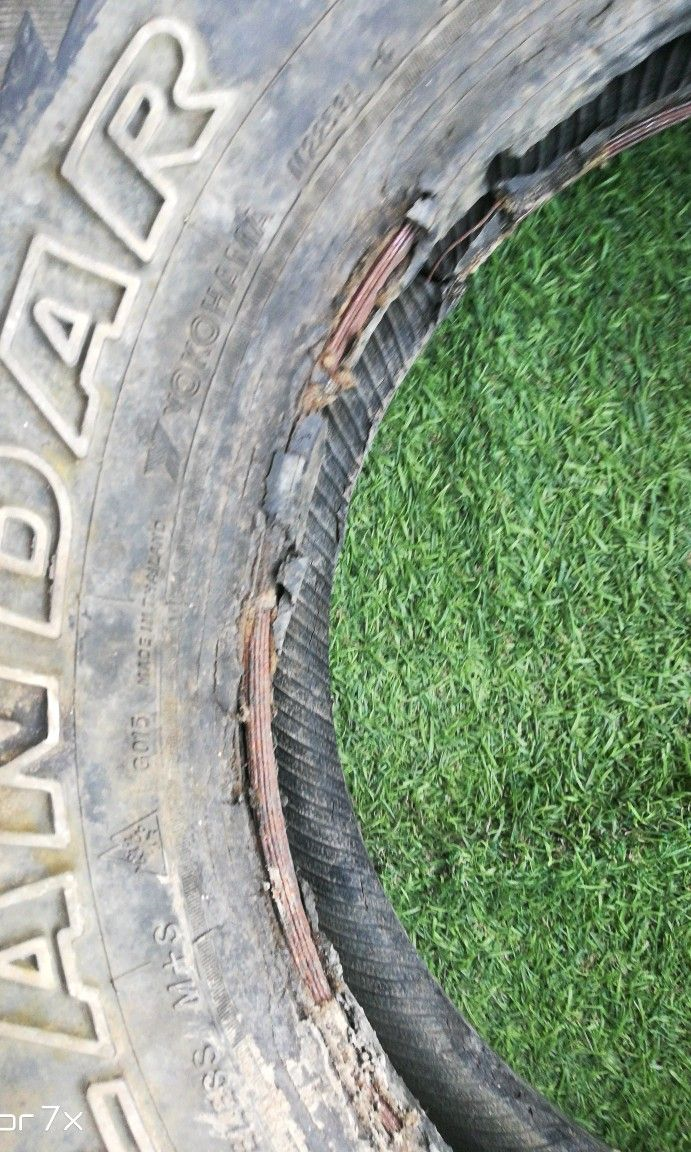bead_damage: (187, 5, 690, 1151)
